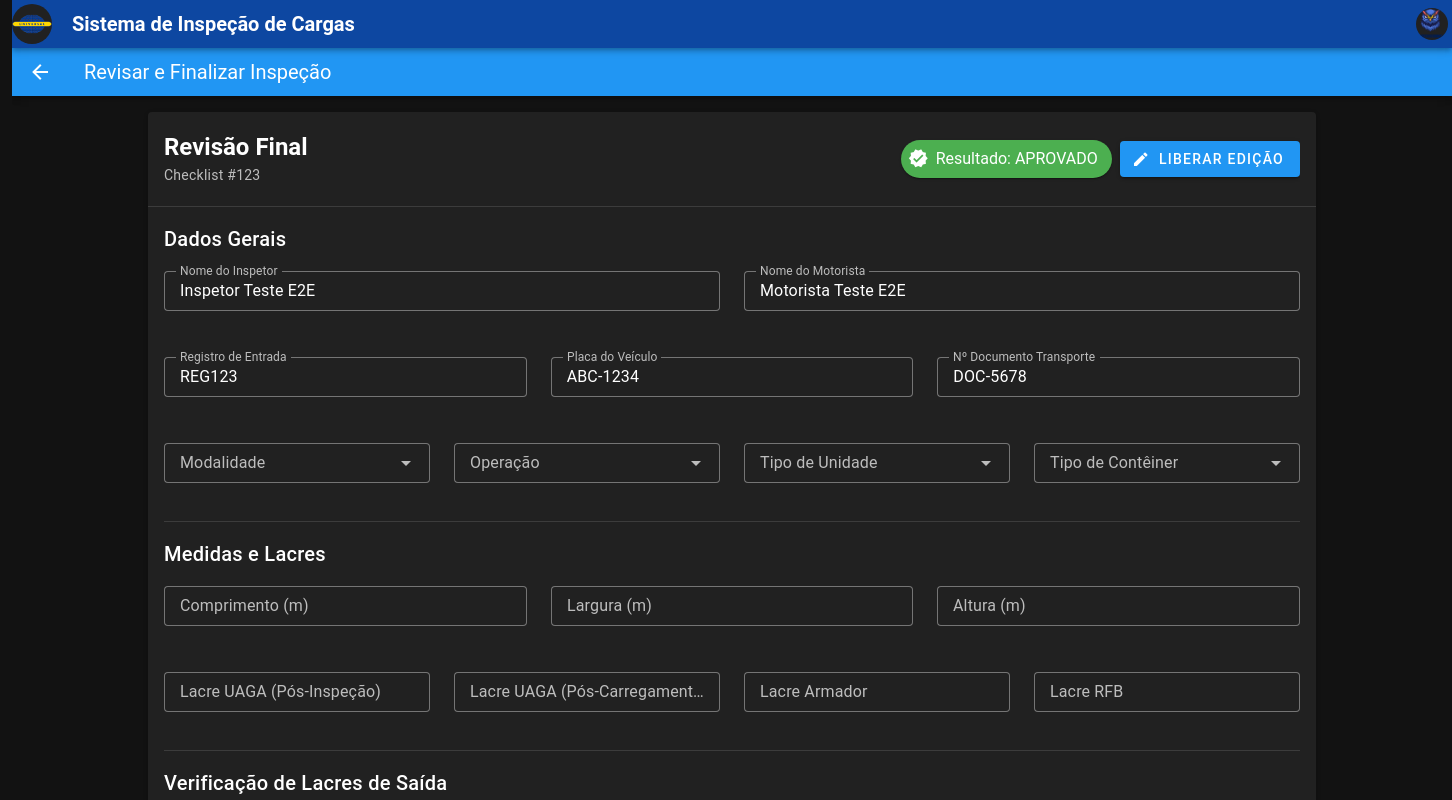
it: Tela 4: Revisar e Finalizar Inspeção › Funcionalidades em macbook-15 › deve permitir a edição, salvar os dados e bloquear o formulário novamente
Click the button with test id "edit-btn": x=1210, y=159 [1120, 141, 1300, 177]
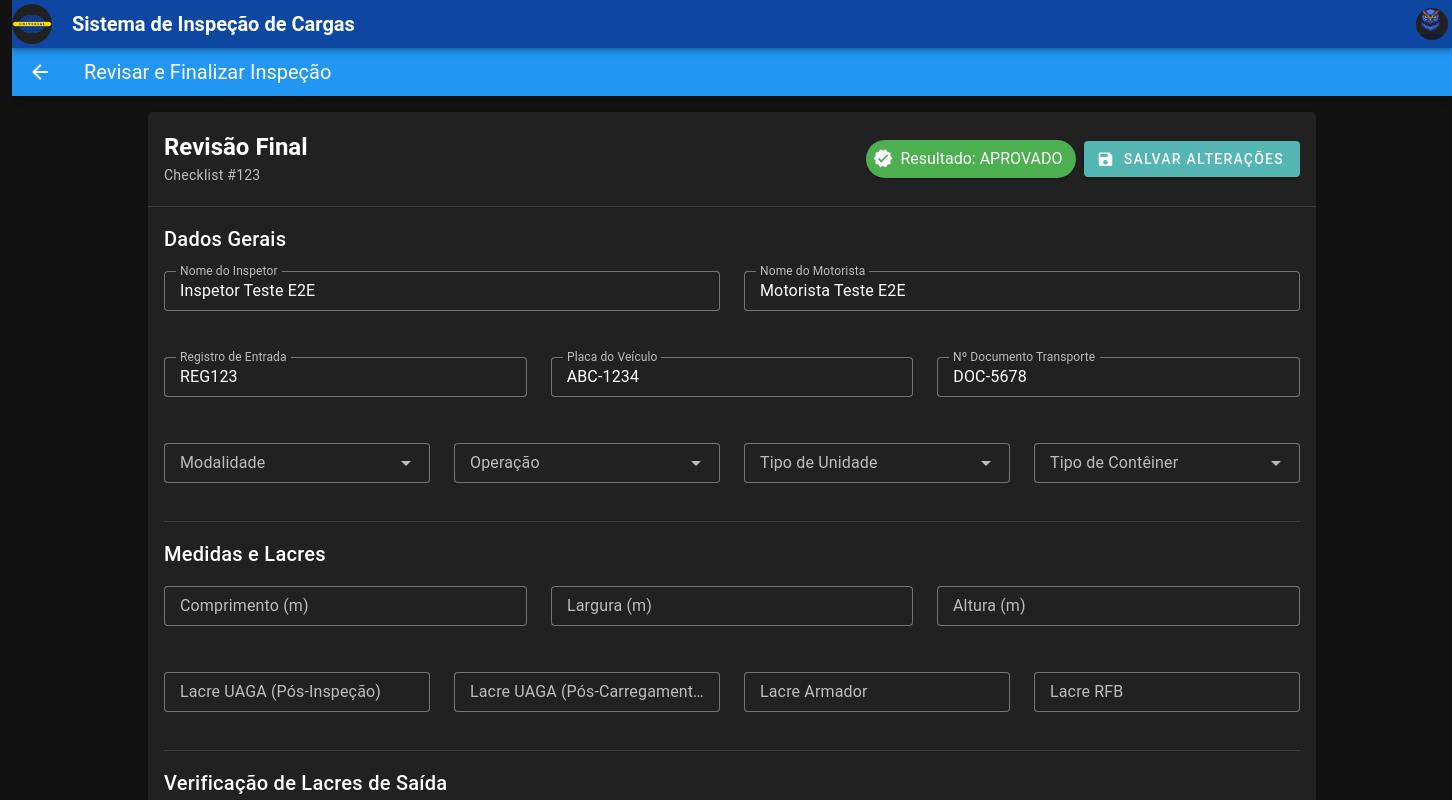
Replace the text in the field labelled "Nome do Inspetor" with "Nome Alterado no E2E": x=442, y=291 [164, 271, 720, 311]
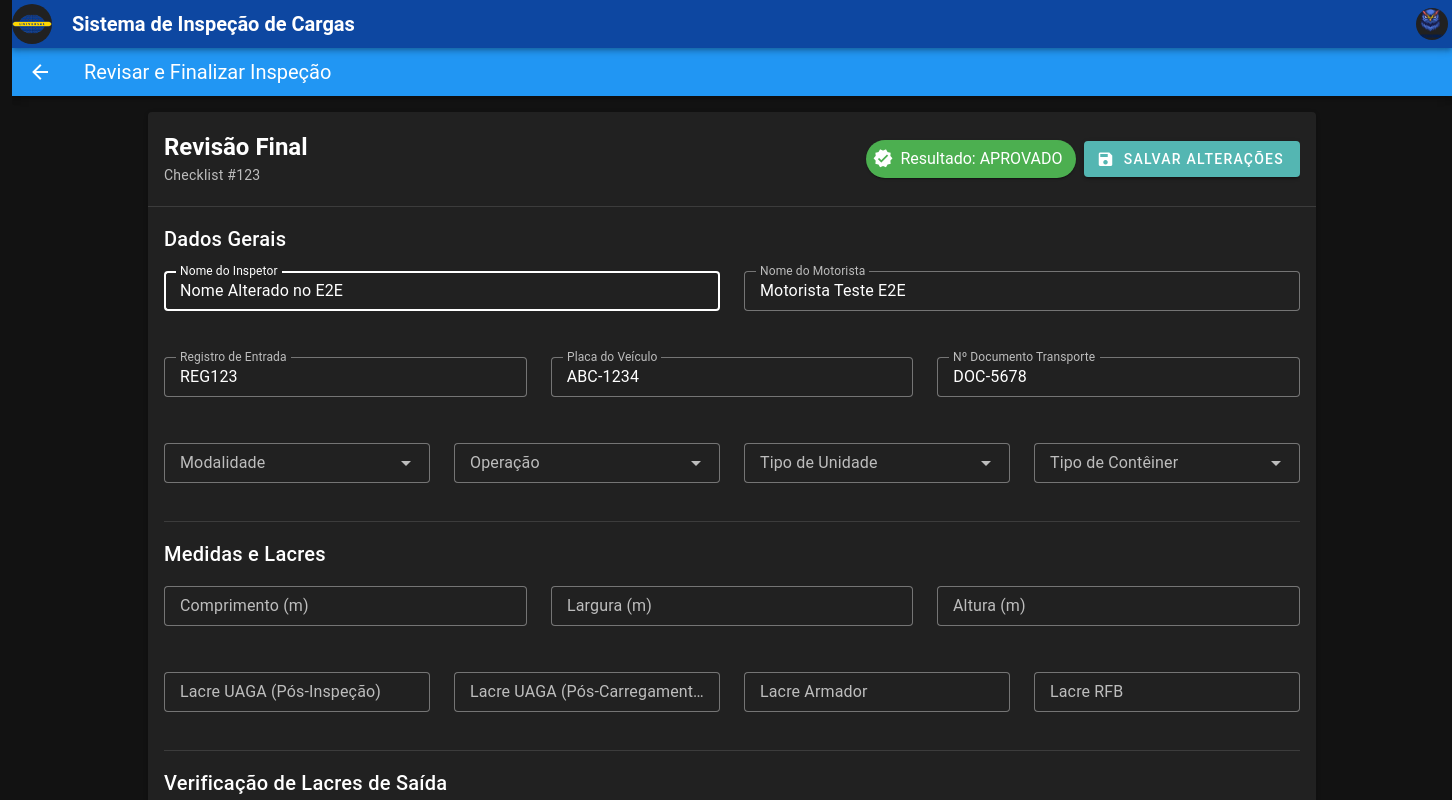
Click the button with test id "save-btn": x=1192, y=159 [1084, 141, 1300, 177]
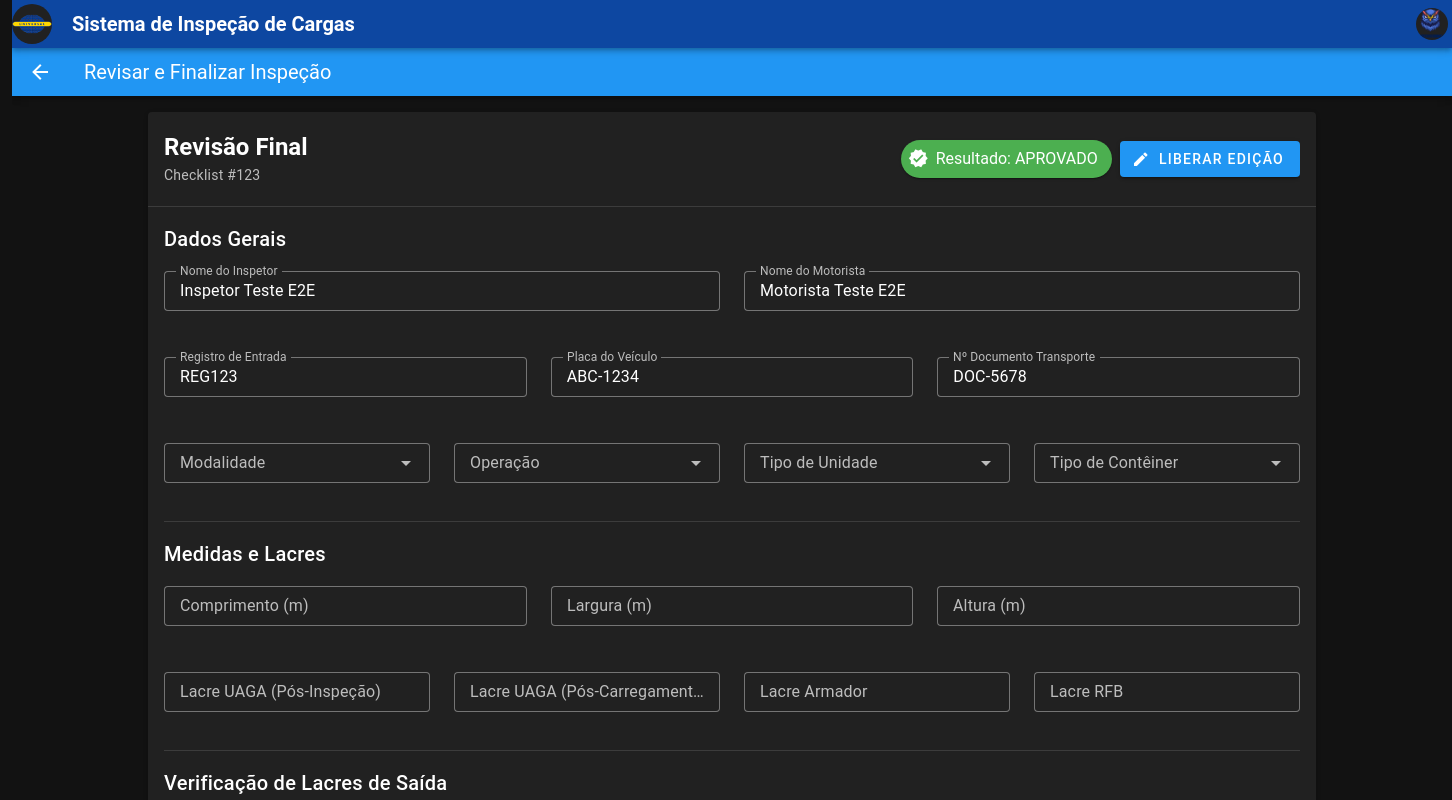
Now the button with test id "edit-btn" is shown, box [1120, 141, 1300, 177]
